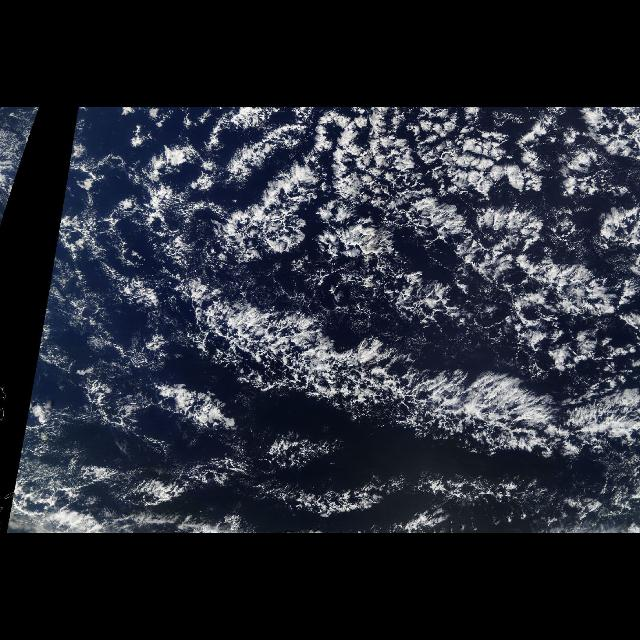Fish: (162, 136, 640, 532)
Gravel: (34, 330, 592, 526)
